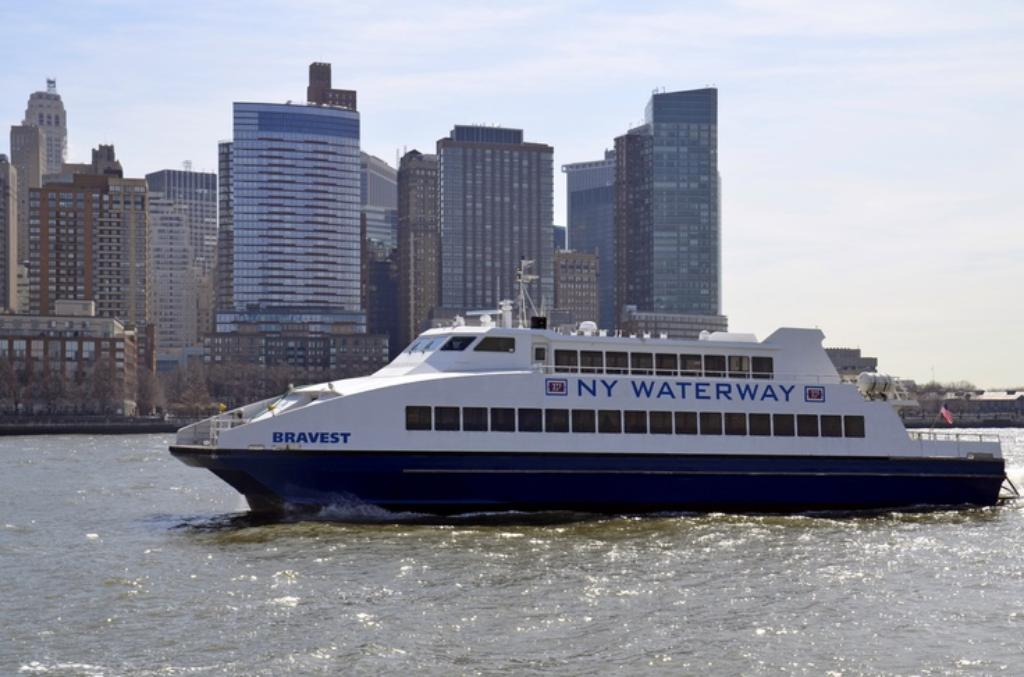PassengerShip: (158, 250, 1012, 524)
